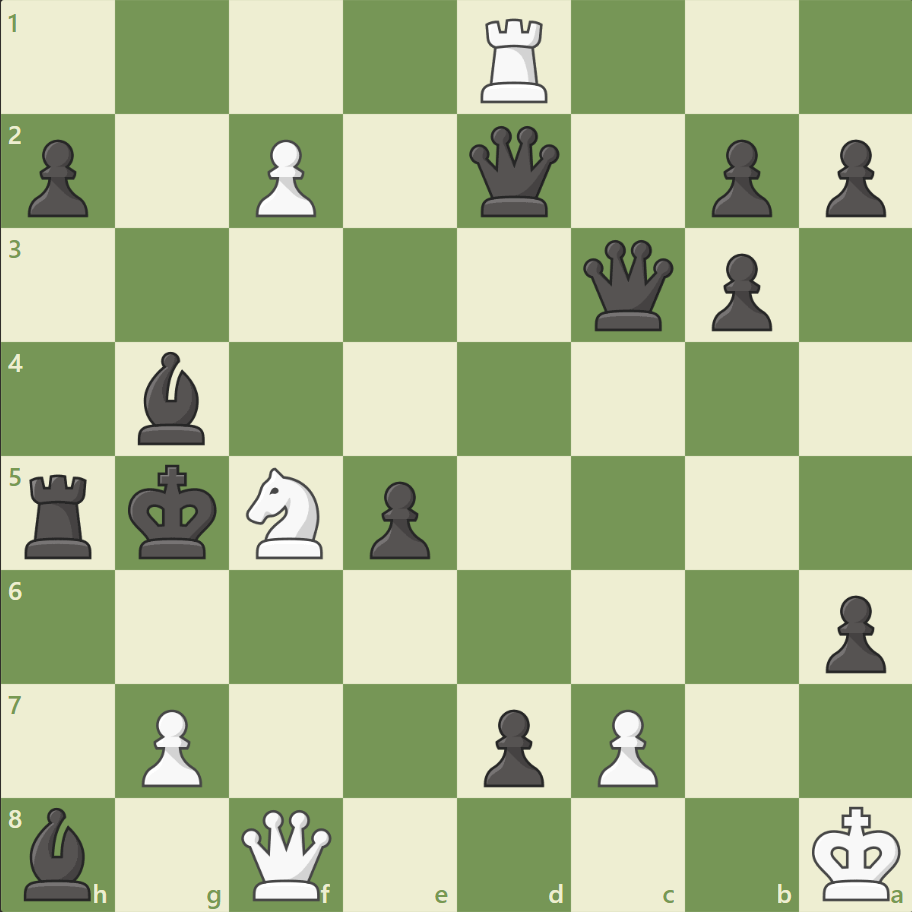K: (806, 798, 906, 906)
N: (238, 461, 335, 564)
P: (133, 700, 208, 791), (247, 132, 322, 223), (588, 700, 662, 791)
Q: (237, 804, 336, 903)
R: (473, 12, 556, 109)
b: (17, 801, 101, 904), (131, 347, 215, 449)
k: (124, 458, 224, 566)
p: (474, 700, 549, 791), (701, 246, 776, 337), (701, 132, 776, 223), (20, 132, 95, 223), (815, 586, 889, 677), (361, 473, 435, 564), (815, 132, 889, 223)
q: (464, 122, 563, 222), (578, 236, 677, 335)
r: (19, 466, 102, 563)
